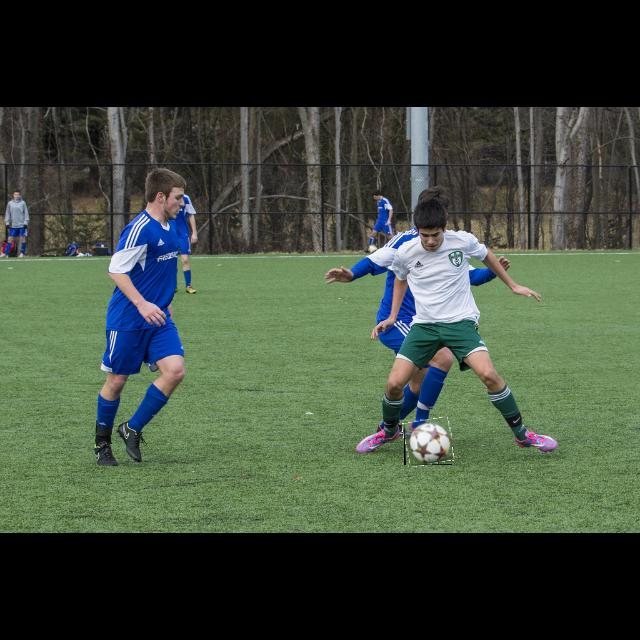Football: (404, 419, 452, 465)
